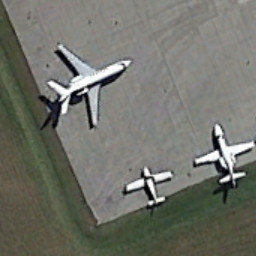Airplane: (23, 31, 140, 133), (185, 111, 256, 198), (114, 153, 181, 214)
